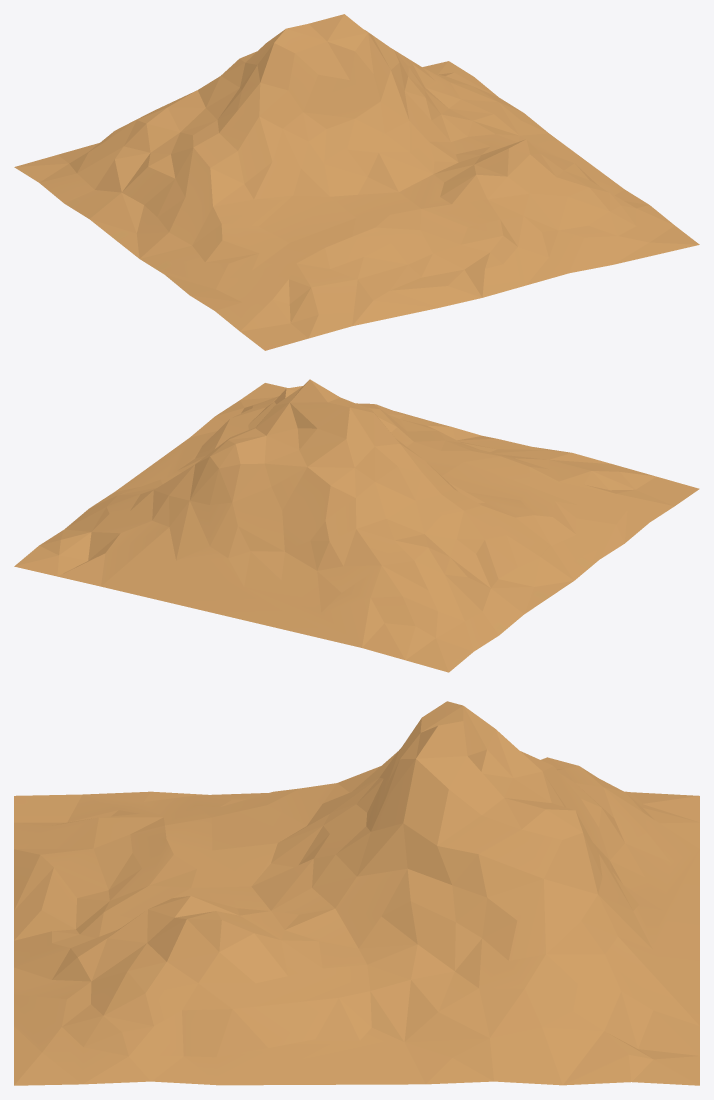
Rendered from mountain.glb.
3 renders of one model, top to bottom at view 1: azimuth 30°, elevation 25°; view 2: azimuth 150°, elevation 25°; view 3: azimuth 270°, elevation 25°, orthographic. The views are drawn at different scales.
Visible parts, largest first — view 1: terrain-mountains; view 2: terrain-mountains; view 3: terrain-mountains.
Part boxes in pixels (x1,y1,x2,y2): terrain-mountains: (14,14,699,350); terrain-mountains: (14,379,699,672); terrain-mountains: (14,701,699,1085).
Bounding box in the file's own units: 302 × 110 × 302.
Materials: 1 (1 with a texture image).
